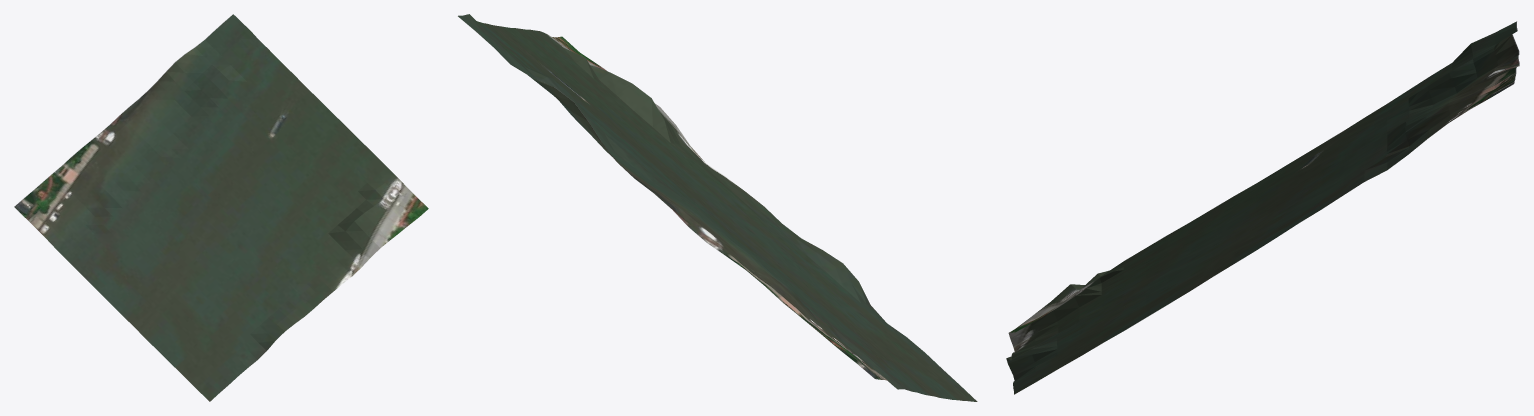
The picture shows the model from 3 angles, left to right: view 1: azimuth 30°, elevation 25°; view 2: azimuth 150°, elevation 25°; view 3: azimuth 270°, elevation 25°; orthographic projection. The views are drawn at different scales.
Bounding box in the file's own units: 591 × 506 × 453.
Materials: 1 (1 with a texture image).
